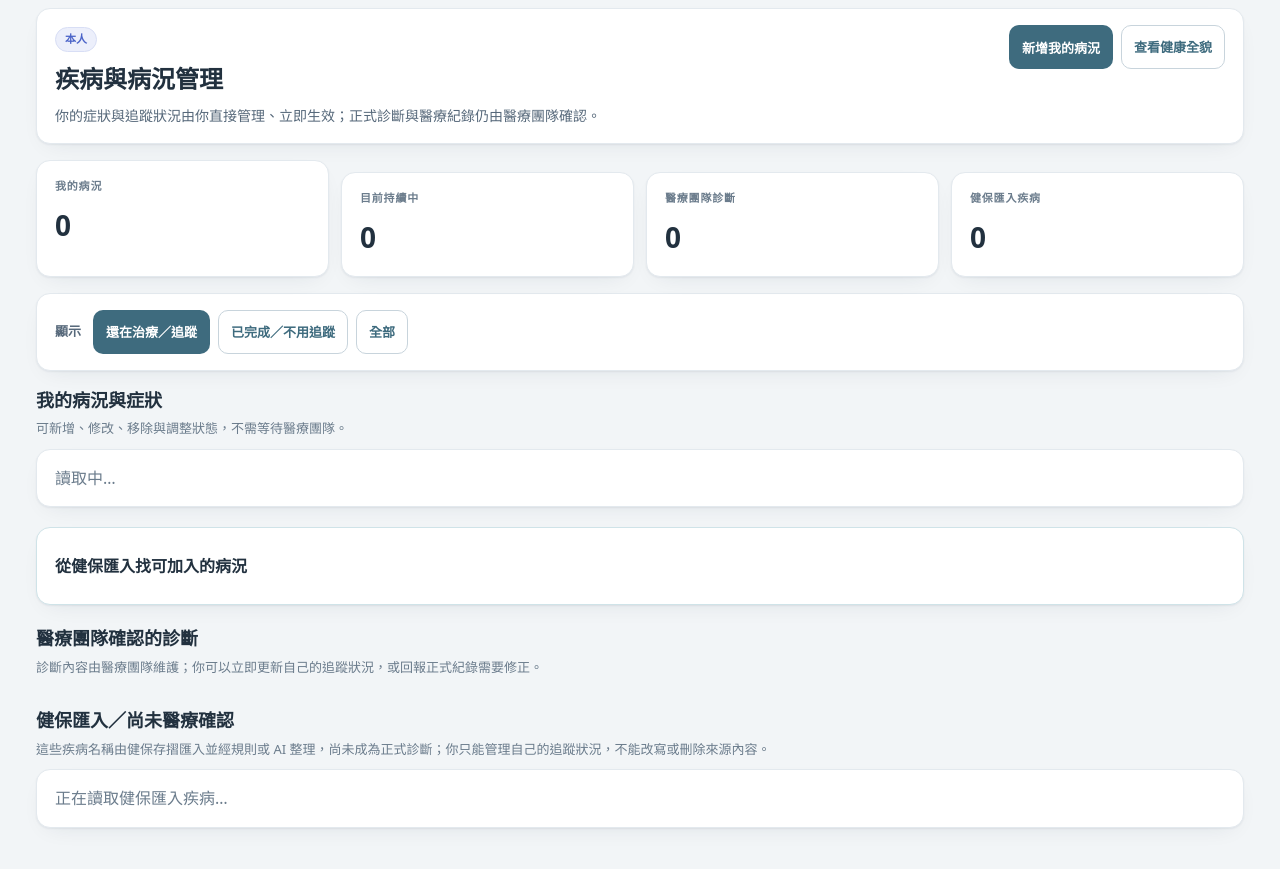
ConditionsPage NHI disease management › searches paginated clinical candidates and saves an eligible condition explicitly
The image size is (1280, 869).
Step 1. Click the heading "從健保匯入找可加入的病況" → (151, 566), box [55, 555, 247, 577]
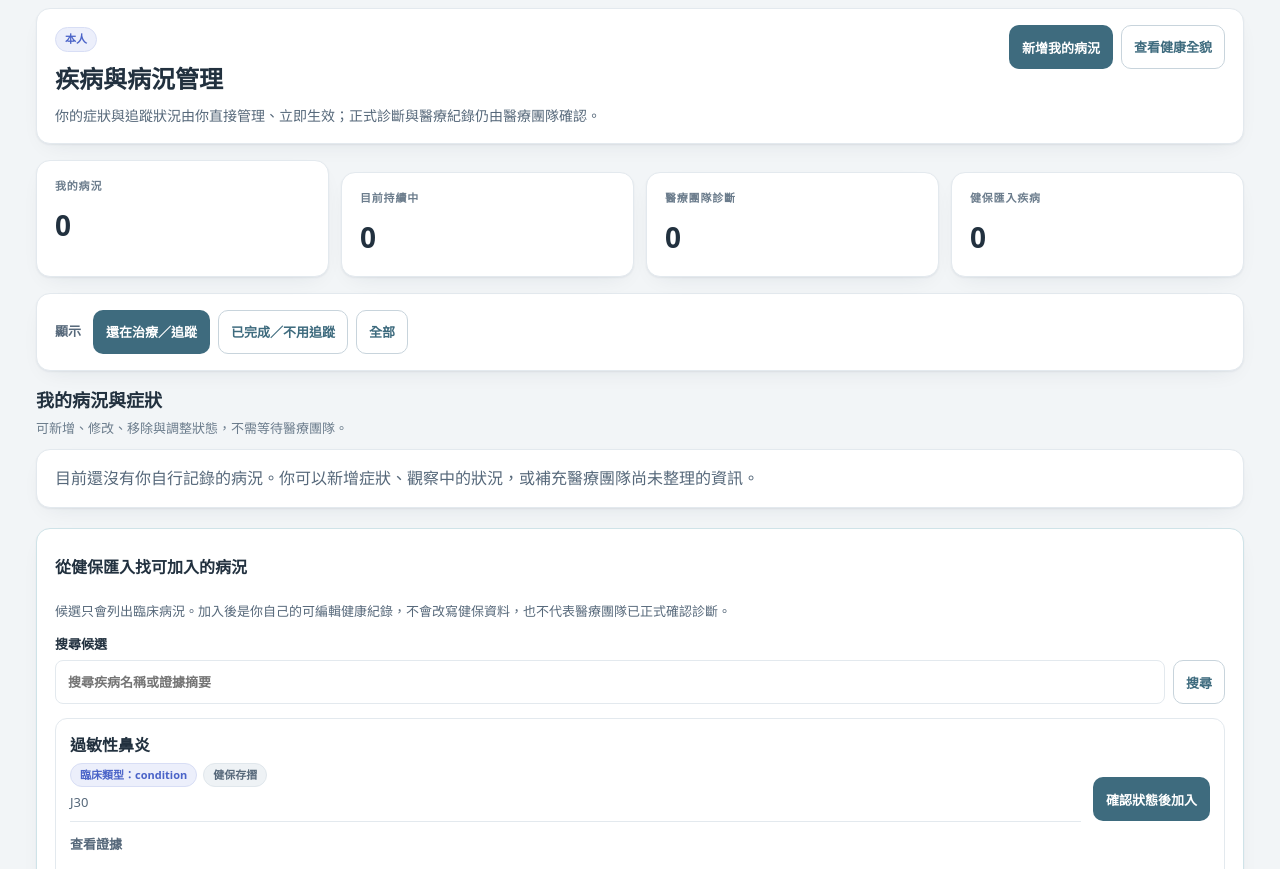
Expected: the text "過敏性鼻炎" is shown, [70, 734, 150, 756]
Step 2. Click the heading "查看證據" → (96, 844), box [70, 835, 122, 853]
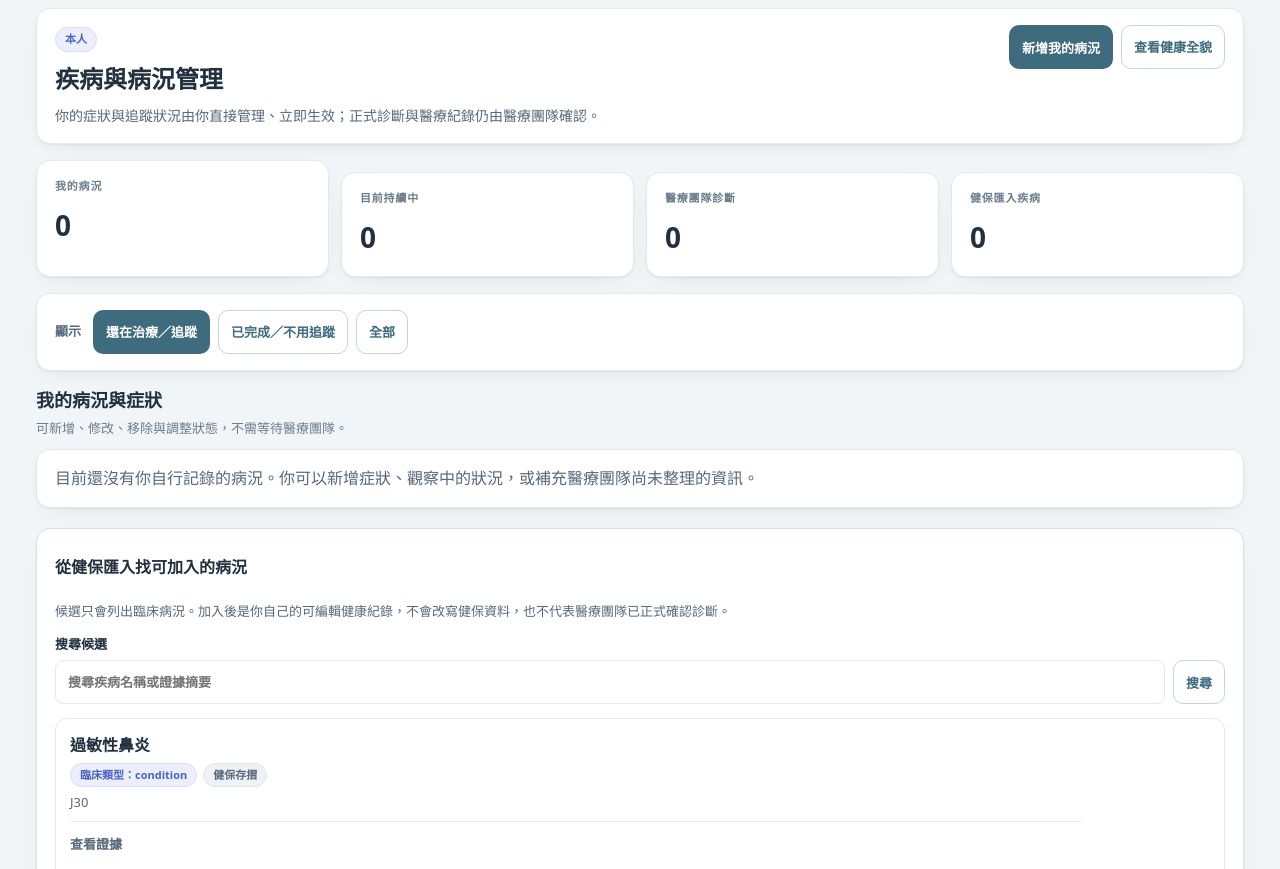
Step 3. Type "過敏" into the field with placeholder "搜尋疾病名稱或證據摘要" → (610, 682), box [55, 660, 1165, 704]
Step 4. Click the button "搜尋" → (1199, 682), box [1173, 660, 1225, 704]
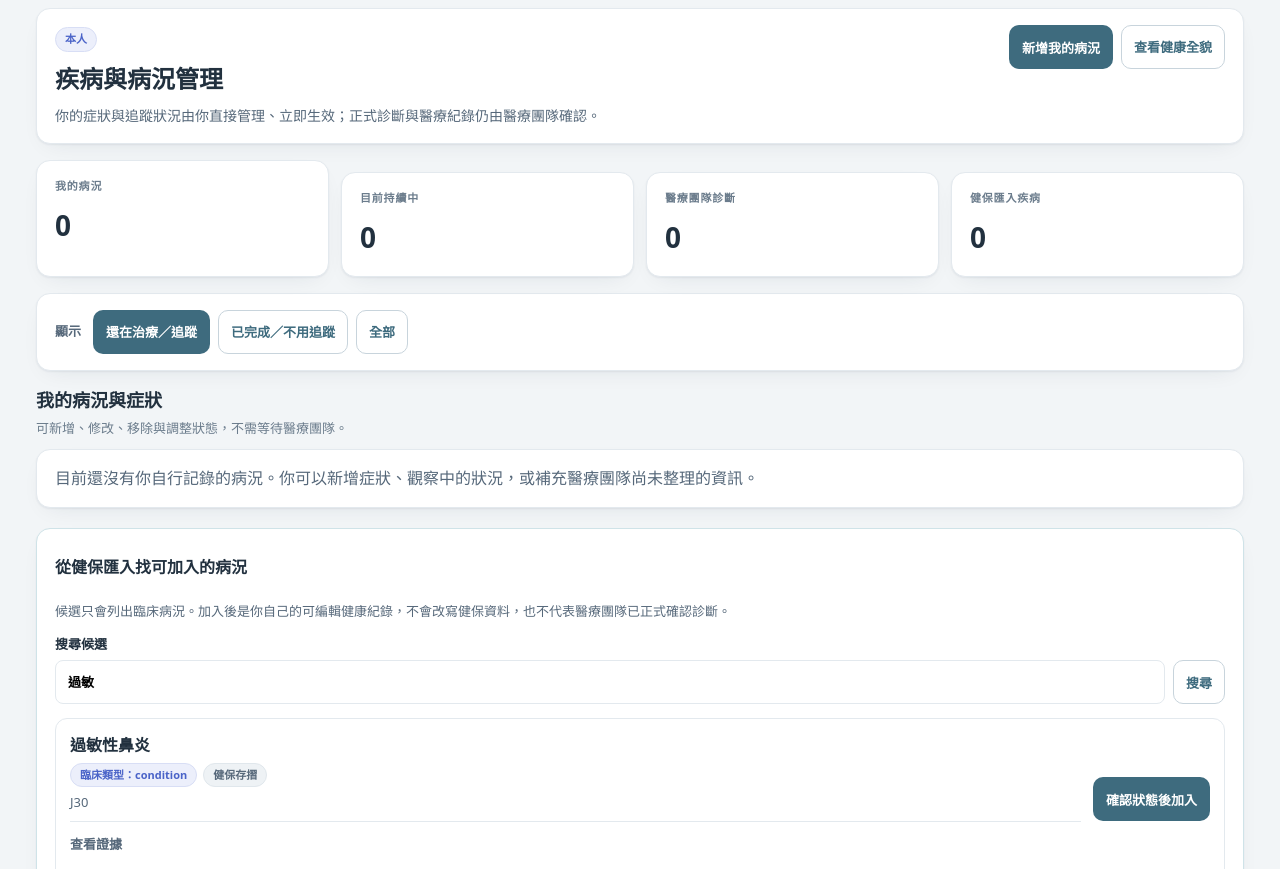
Step 5. Click the button "確認狀態後加入" → (1152, 800), box [1093, 778, 1210, 822]
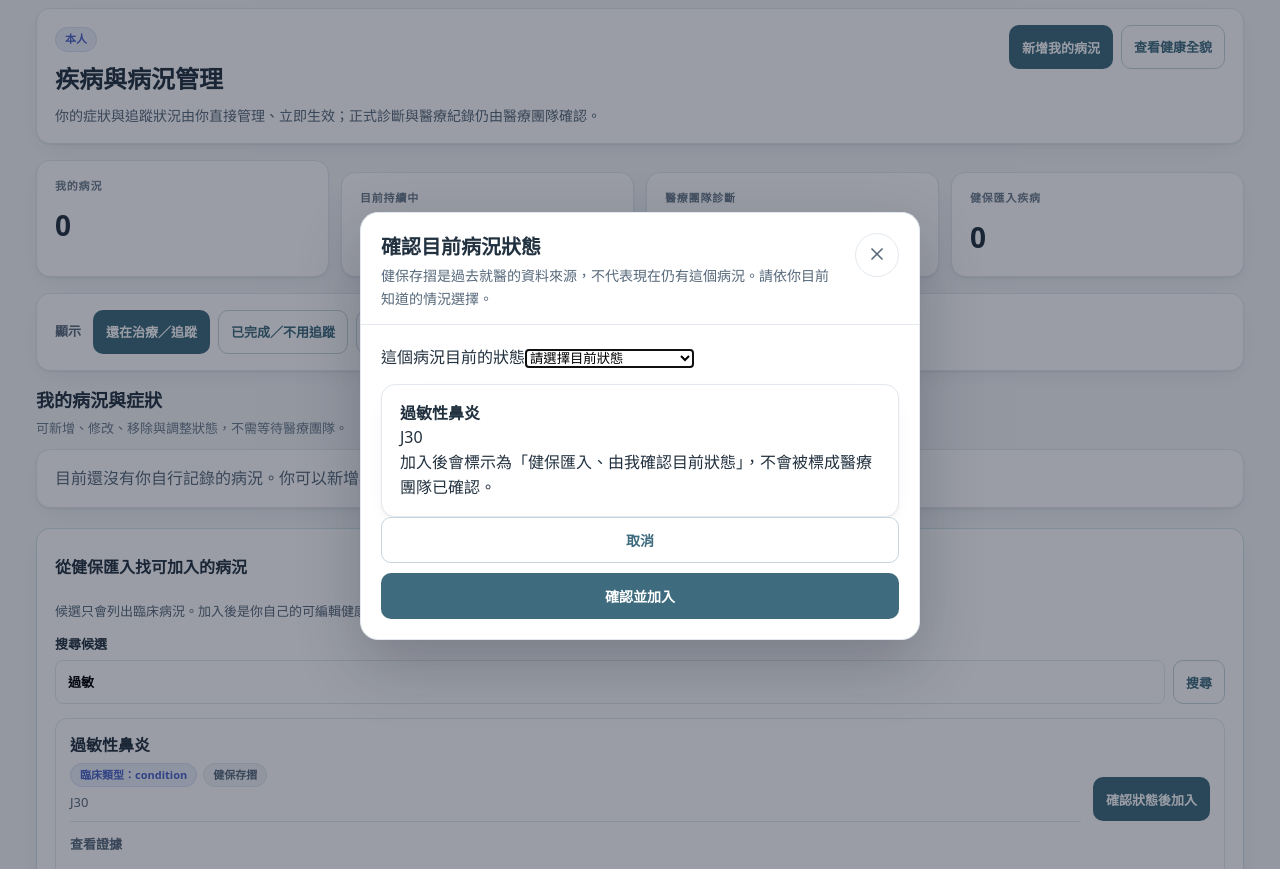
Expected: the dropdown labelled "這個病況目前的狀態" shows "請選擇目前狀態"
Expected: the button "確認並加入" is disabled, [381, 573, 899, 619]
Step 6. Select "目前有症狀／狀況持續中" in the dropdown labelled "這個病況目前的狀態" → (610, 358), box [525, 349, 694, 368]
Step 7. Click the button "確認並加入" → (640, 596), box [381, 573, 899, 619]
(page scrolled)
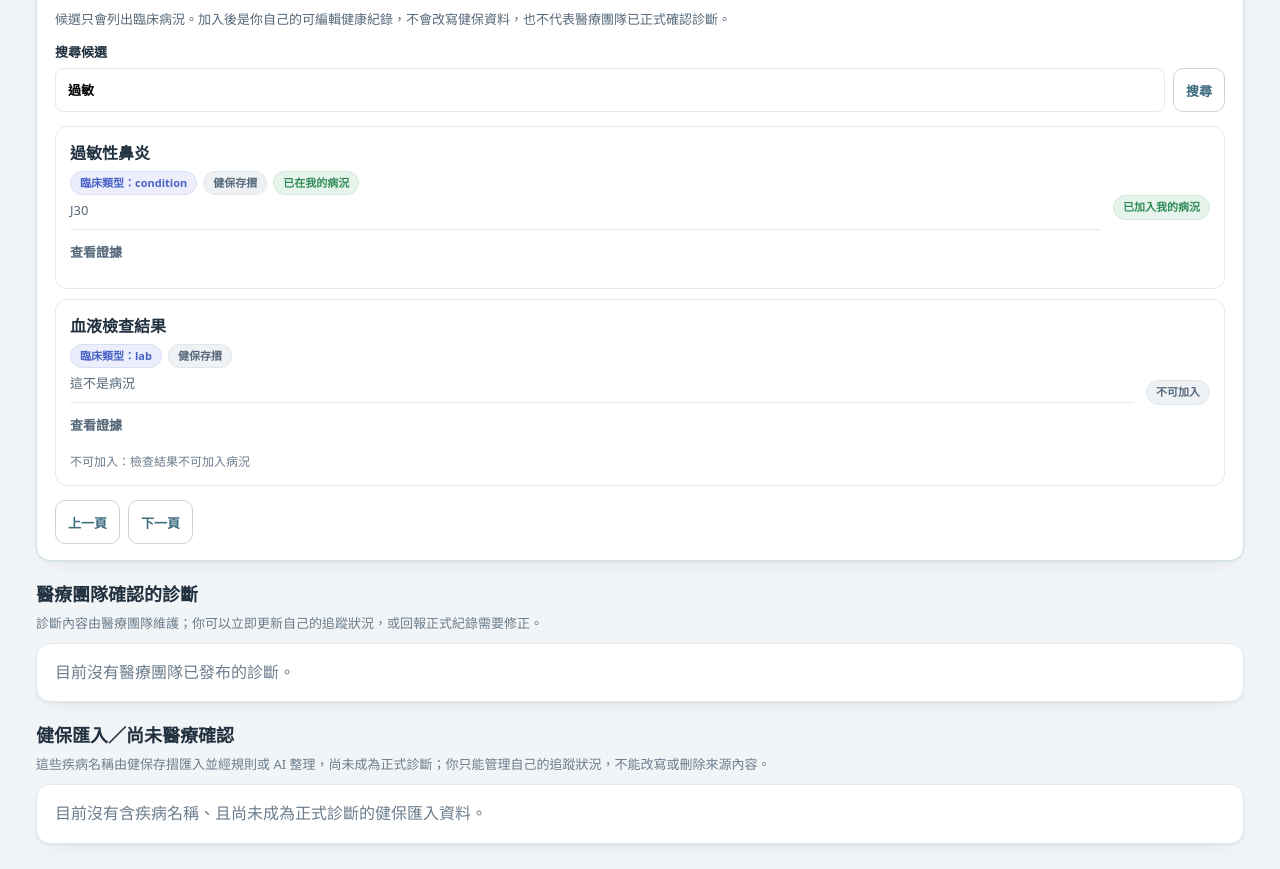
Expected: the text "已在我的病況" is shown, [273, 171, 359, 195]
Step 8. Click the button "下一頁" → (160, 522), box [128, 500, 193, 544]
(page scrolled)
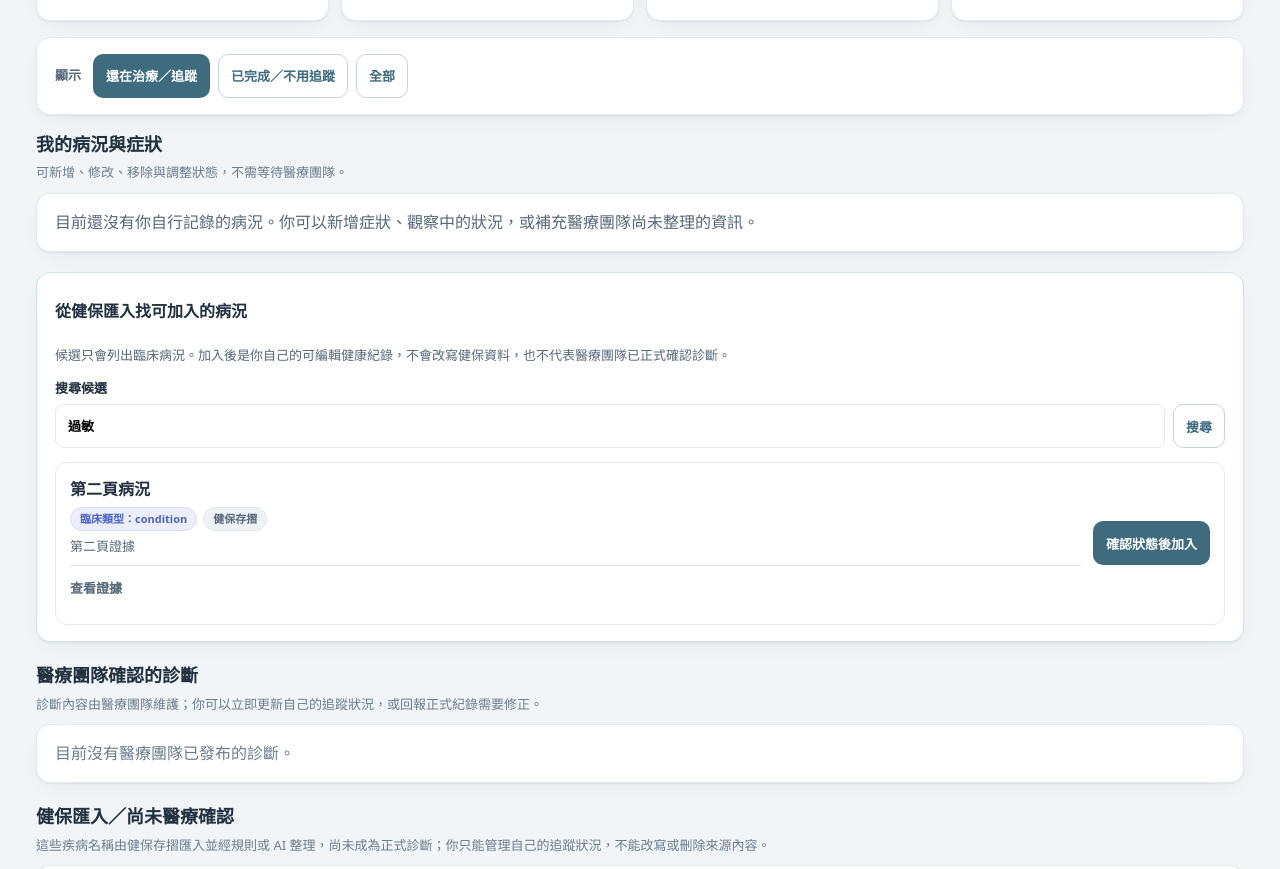
Expected: the text "第二頁病況" is shown, [70, 478, 150, 500]
